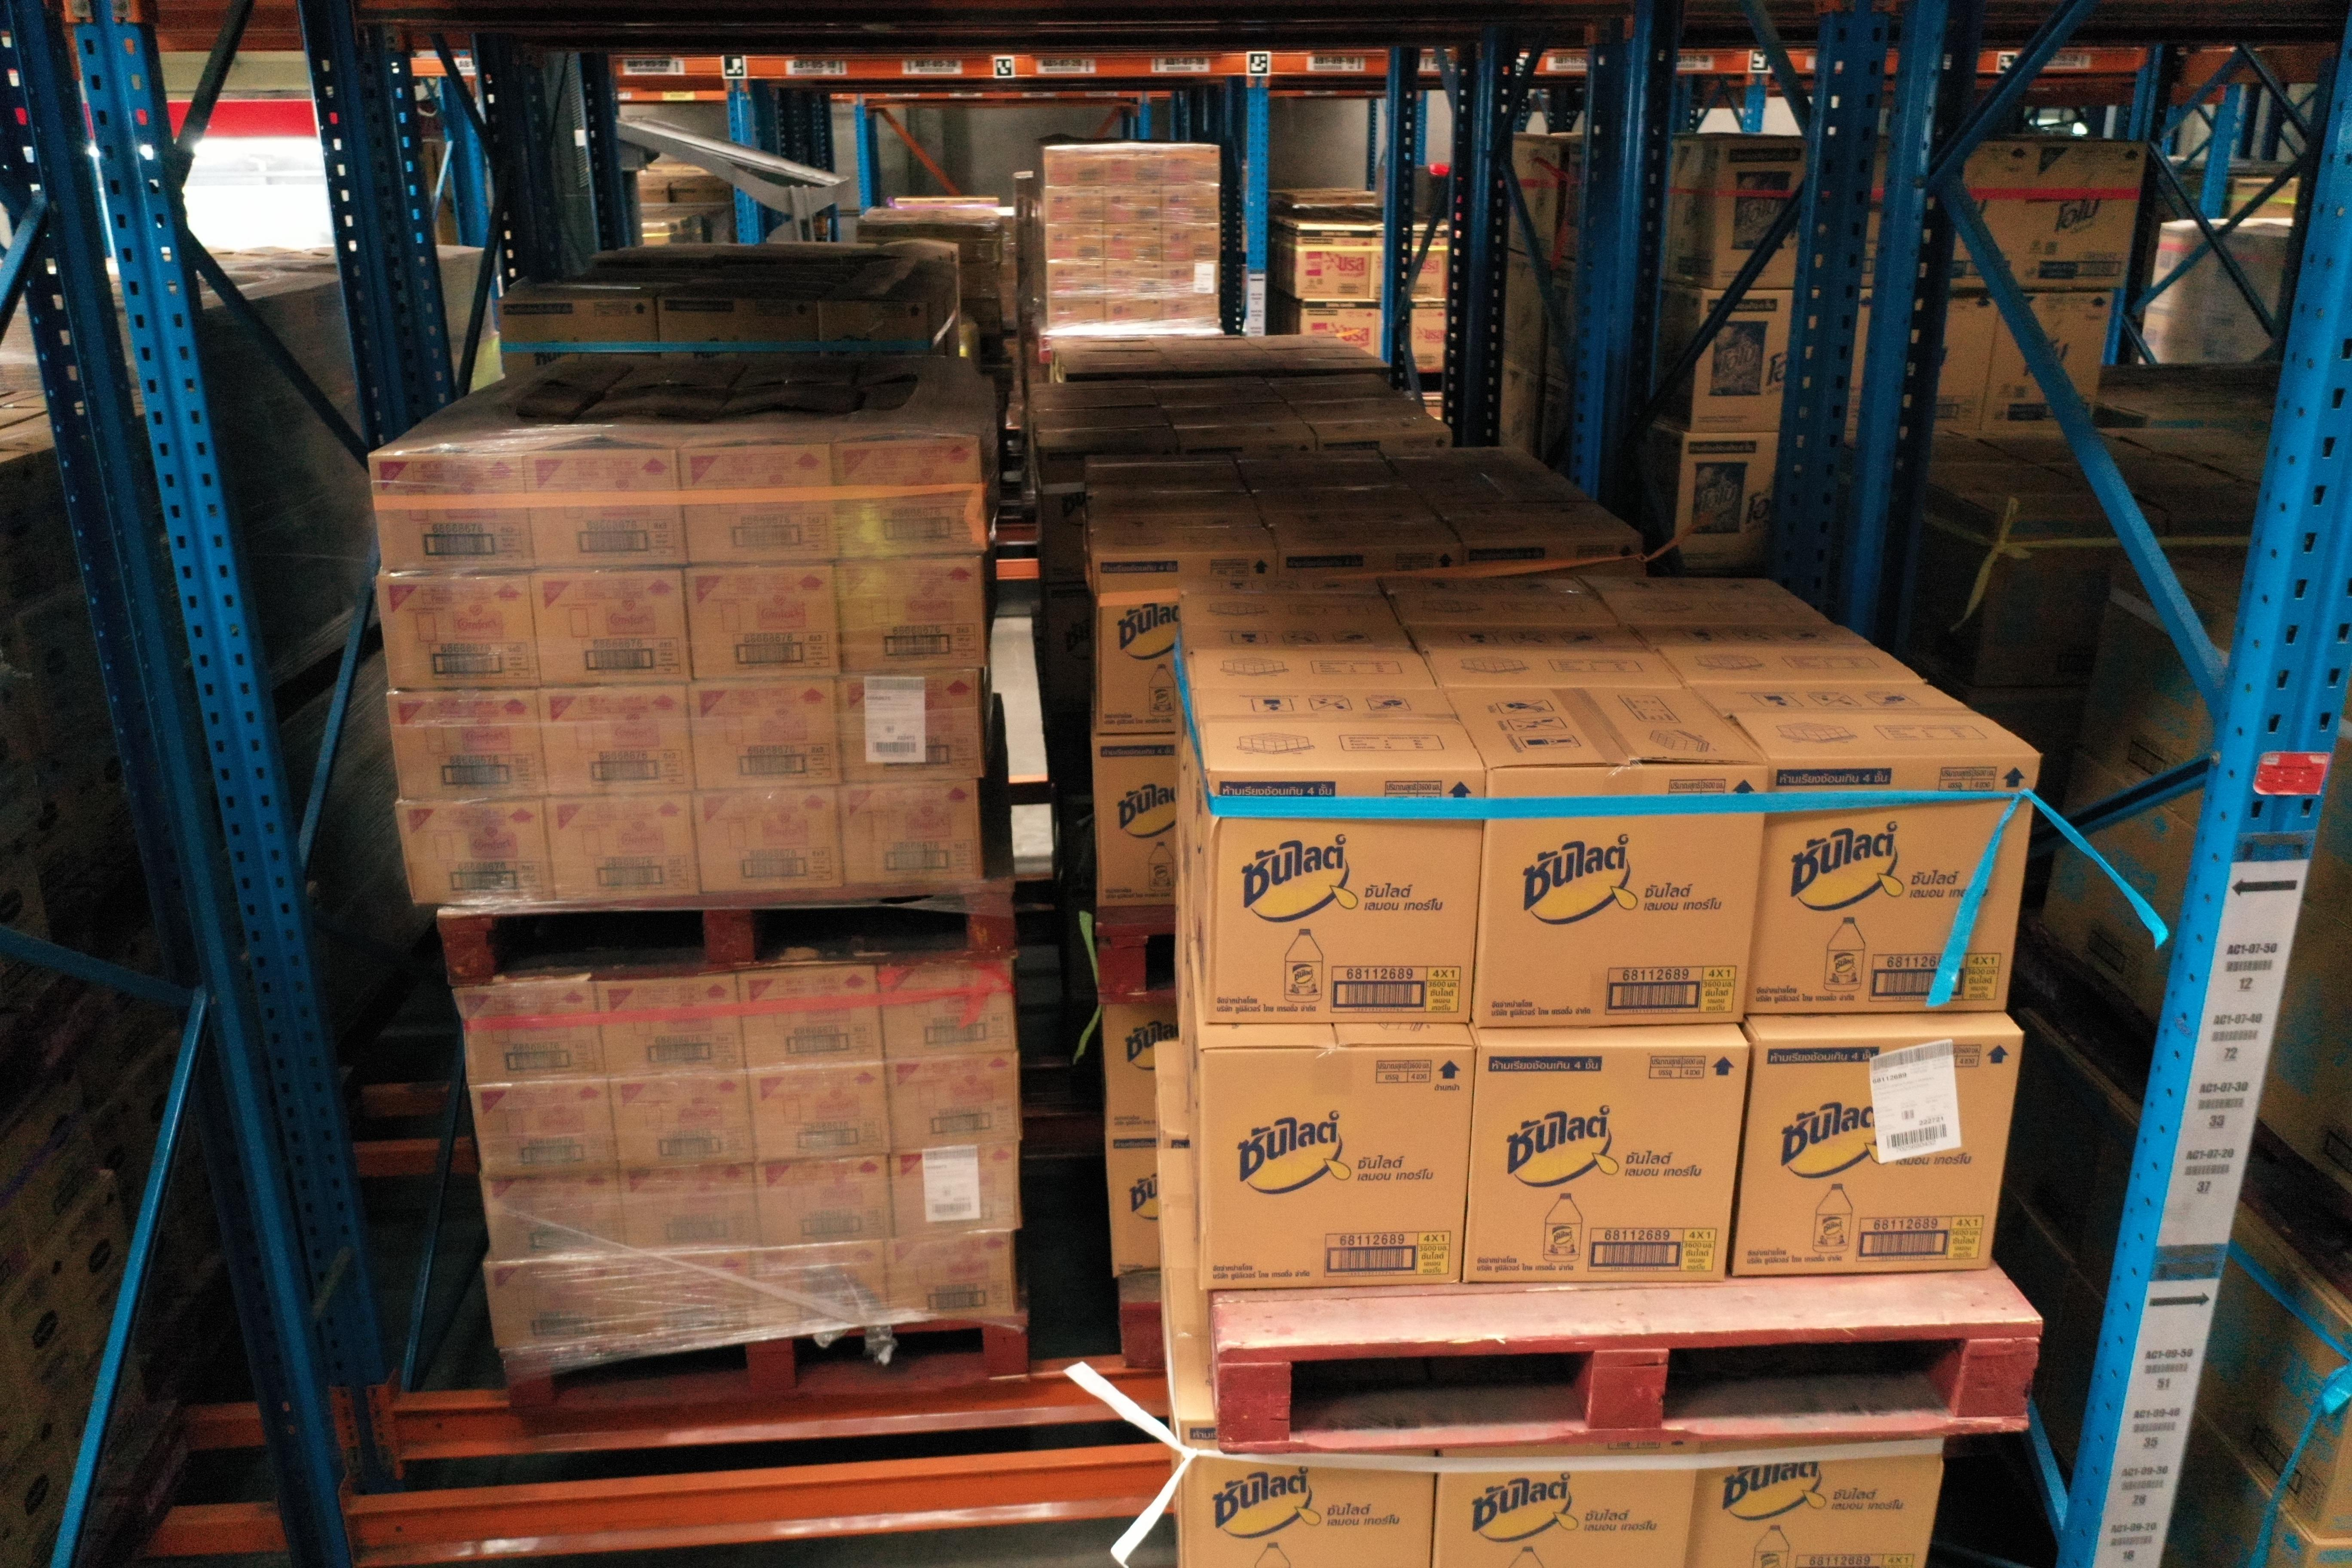-: (1473, 763, 1773, 1029), (1743, 756, 2040, 1017), (1204, 766, 1487, 1029), (1732, 1036, 2023, 1279), (1459, 1045, 1753, 1284), (1202, 1045, 1473, 1293), (1178, 1421, 1440, 1568), (1690, 1437, 1946, 1568), (1435, 1442, 1701, 1568)
box: (371, 448, 535, 576), (527, 448, 688, 574), (679, 441, 838, 567), (836, 437, 989, 563), (534, 569, 691, 689), (378, 572, 537, 691), (686, 563, 843, 682), (388, 689, 548, 805), (542, 793, 703, 906), (541, 684, 696, 800), (838, 556, 987, 677), (688, 681, 838, 800), (838, 670, 982, 789), (397, 800, 553, 905), (451, 982, 607, 1087), (485, 1260, 639, 1363), (696, 786, 845, 892), (836, 780, 985, 887), (595, 976, 745, 1081), (749, 1062, 894, 1169), (612, 1073, 756, 1178), (737, 969, 887, 1069), (469, 1081, 621, 1179), (621, 1165, 765, 1267), (877, 962, 1018, 1064), (483, 1172, 628, 1270), (894, 1146, 1025, 1251), (887, 1055, 1022, 1157), (633, 1251, 766, 1351), (759, 1241, 894, 1337), (759, 1158, 896, 1253), (887, 1237, 1018, 1319)
